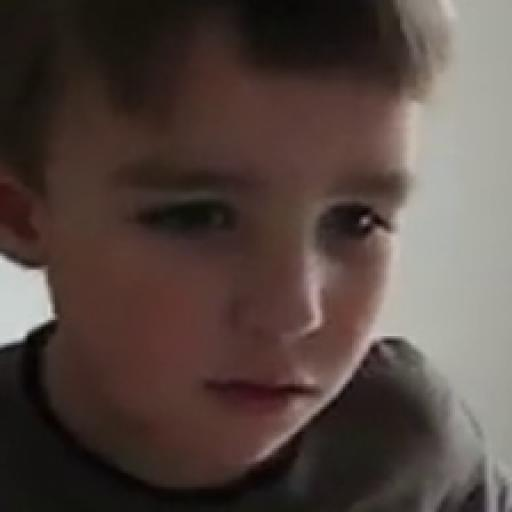Autism: (8, 3, 512, 511)
